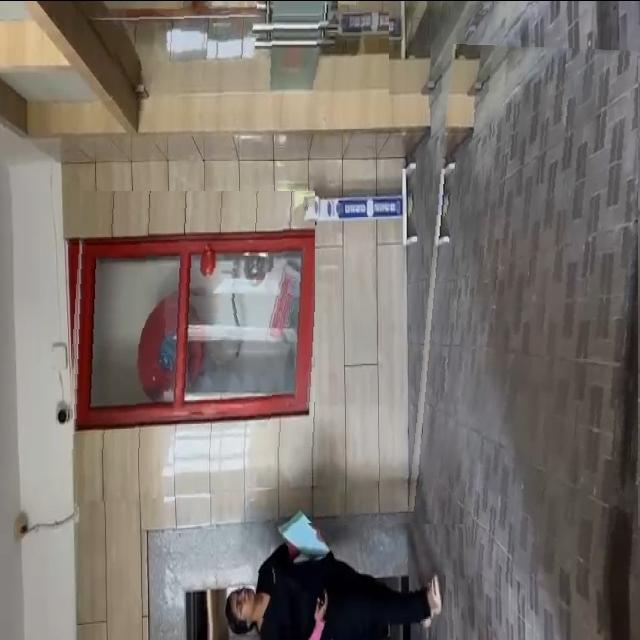door: (65, 190, 315, 456), (109, 0, 389, 118)
floor: (402, 43, 638, 573)
moving_object: (216, 521, 473, 640)
